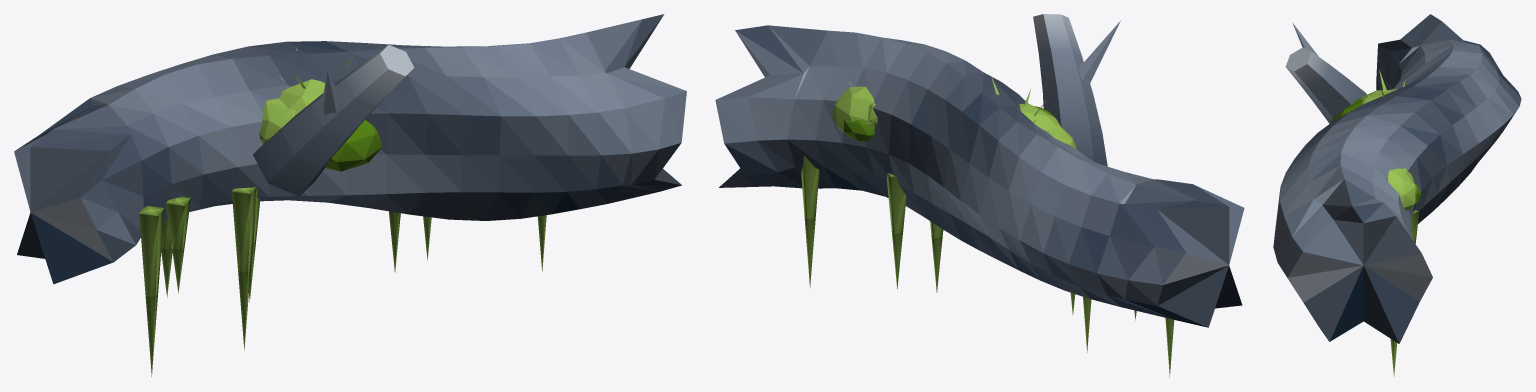
Rendered from pohon_tumbang_bridge_driftwood_282345.glb.
The picture shows the model from 3 angles, left to right: view 1: azimuth 30°, elevation 25°; view 2: azimuth 150°, elevation 25°; view 3: azimuth 270°, elevation 25°; orthographic projection. The views are drawn at different scales.
Visible parts, largest first — view 1: Batang_Melintang_Sungai; view 2: Batang_Melintang_Sungai; view 3: Batang_Melintang_Sungai.
Part boxes in pixels (left/top/right/bottom): Batang_Melintang_Sungai: left=14, top=14, right=686, bottom=376; Batang_Melintang_Sungai: left=715, top=14, right=1244, bottom=377; Batang_Melintang_Sungai: left=1273, top=14, right=1521, bottom=376.
Size of the model in its own units: 5.16 by 2.71 by 2.4.
